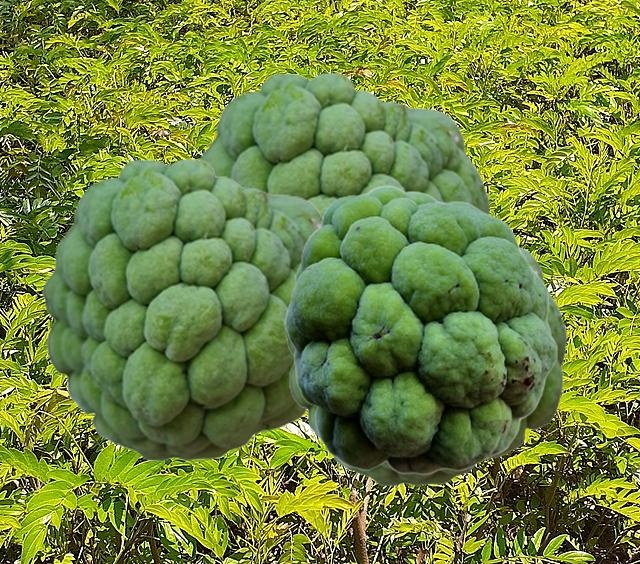atis: (41, 158, 323, 460), (284, 184, 557, 475), (284, 244, 566, 485), (197, 72, 489, 214)
